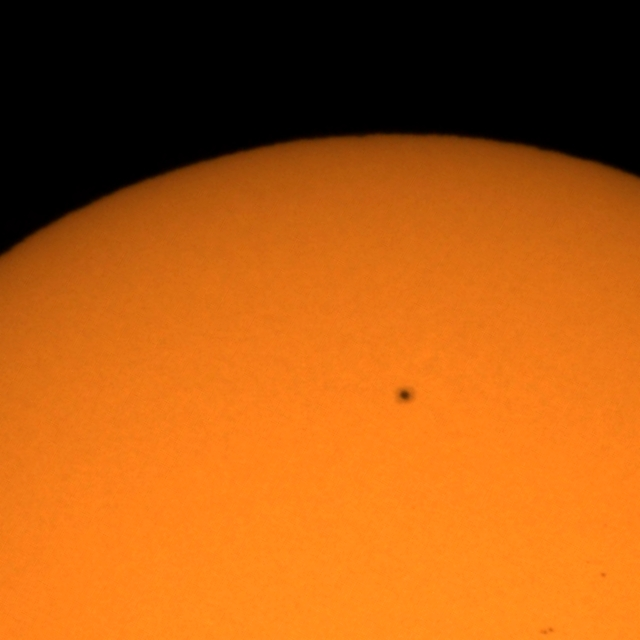sunspot: (392, 384, 417, 408), (538, 626, 555, 638), (599, 570, 608, 580)
